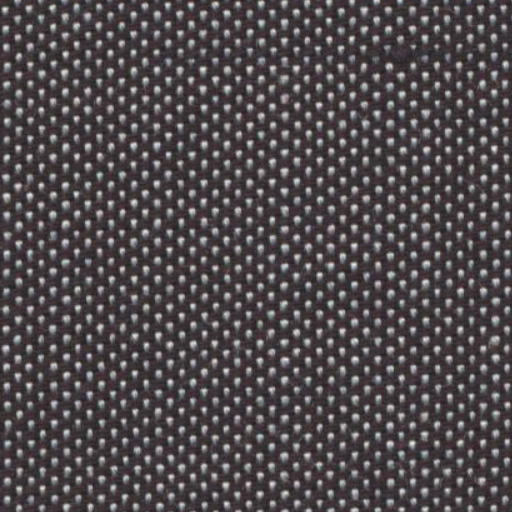TuoSha: (33, 27, 490, 86)
